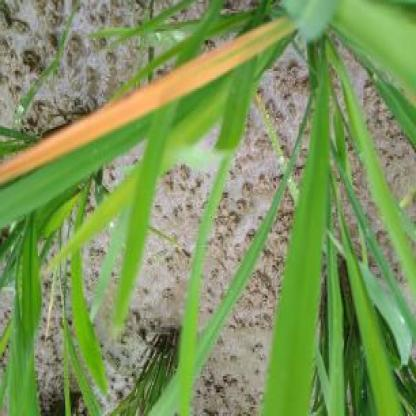Tungro: (6, 11, 270, 195)
